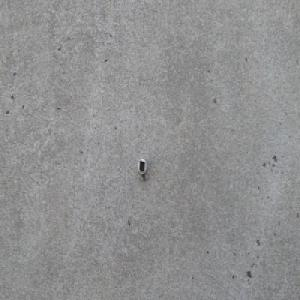MetalPart: (137, 157, 148, 182)
